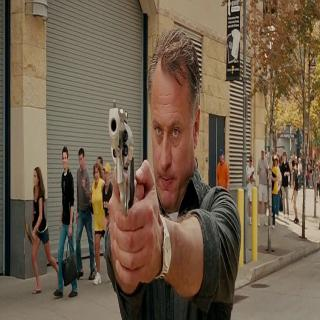gun: (106, 96, 148, 292)
